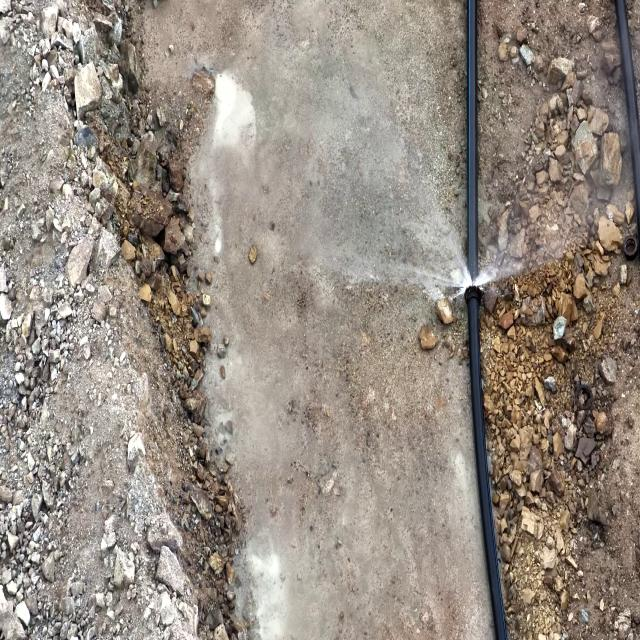leak: (385, 166, 542, 301)
